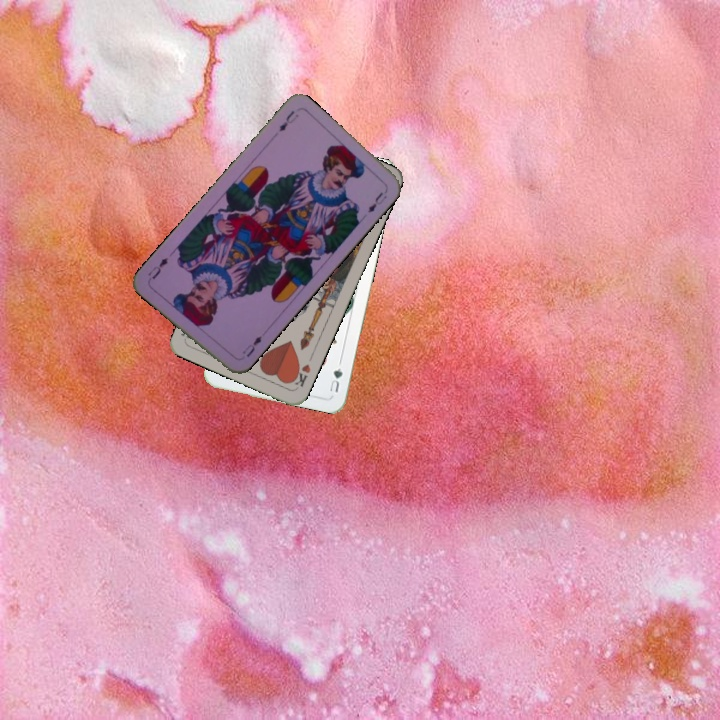EU: (274, 106, 301, 135), (238, 332, 265, 360)
GU: (326, 364, 345, 395)
HK: (287, 360, 313, 391)
